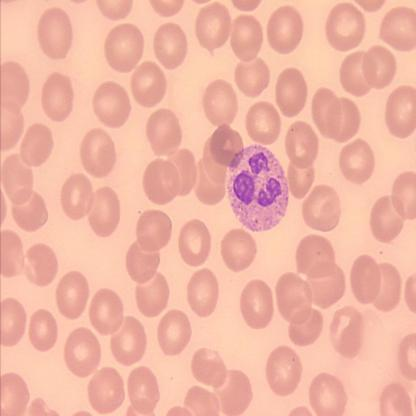Segmented neutrophil: (224, 142, 290, 233)
